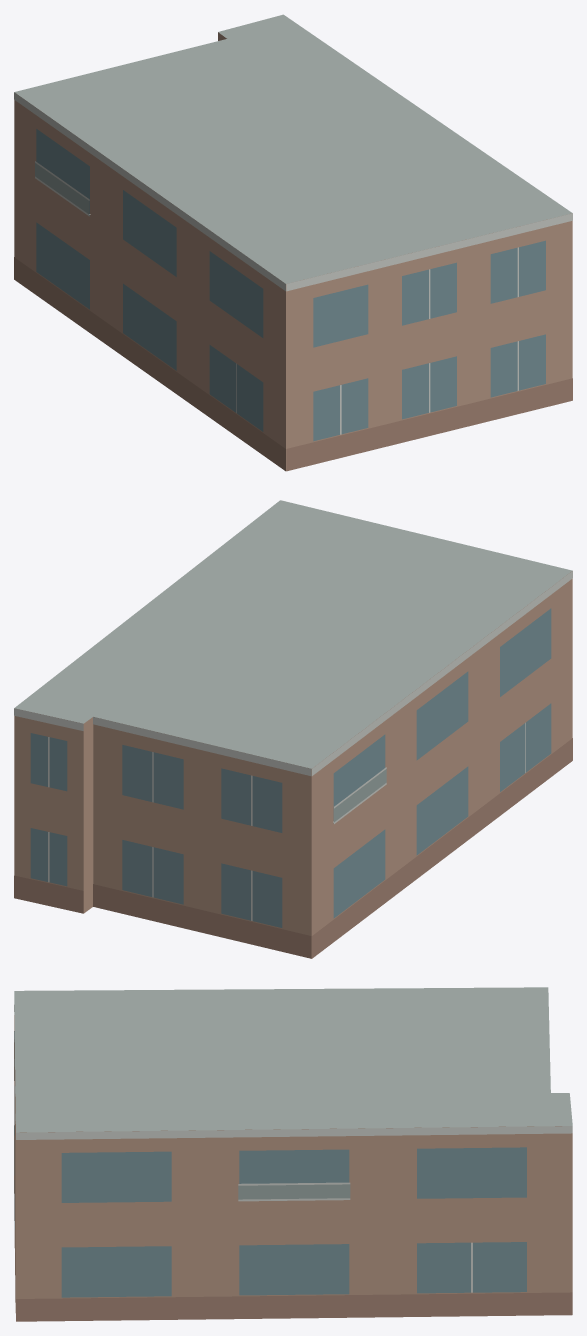
File: survey-upis-32534208.glb
3 renders of one model, top to bottom at view 1: azimuth 30°, elevation 25°; view 2: azimuth 150°, elevation 25°; view 3: azimuth 270°, elevation 25°, orthographic.
Parts seen in each view (by area): view 1: survey-upis-32534208.tmp; view 2: survey-upis-32534208.tmp; view 3: survey-upis-32534208.tmp.
Boxes of the visible parts, x1,y1,x2,y2 form: survey-upis-32534208.tmp: (14, 14, 572, 471); survey-upis-32534208.tmp: (14, 500, 572, 958); survey-upis-32534208.tmp: (14, 987, 572, 1321).
Bounding box in the file's own units: 10.07 × 6.1 × 16.34.
